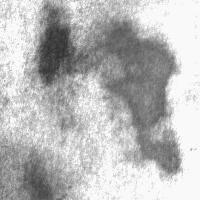patches: (35, 77, 177, 200), (89, 0, 200, 109), (101, 17, 179, 170), (0, 136, 77, 200), (34, 4, 74, 86), (25, 159, 55, 199)
